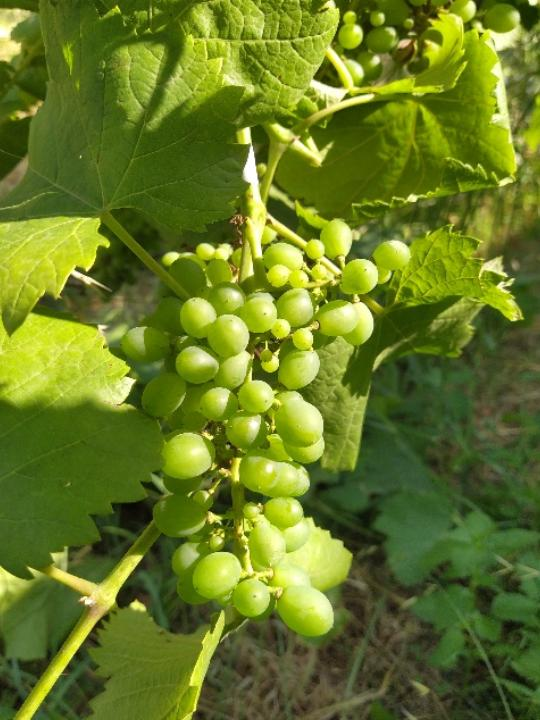grape: (112, 213, 415, 639)
